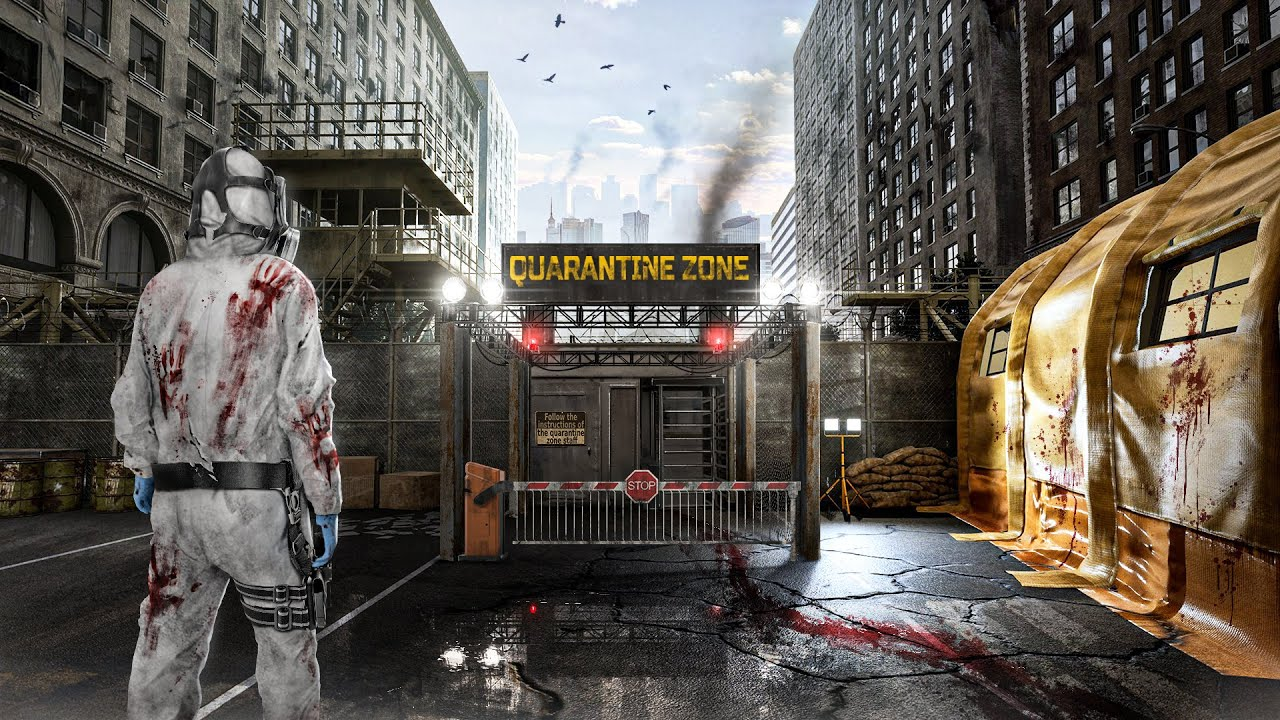human: (111, 146, 343, 714)
